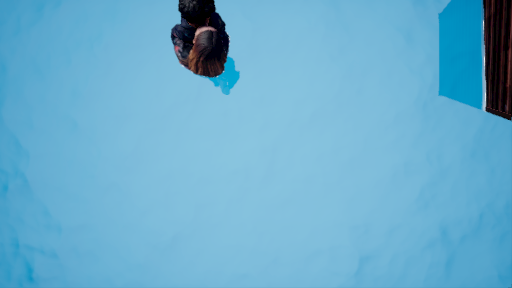person: (173, 5, 244, 92)
